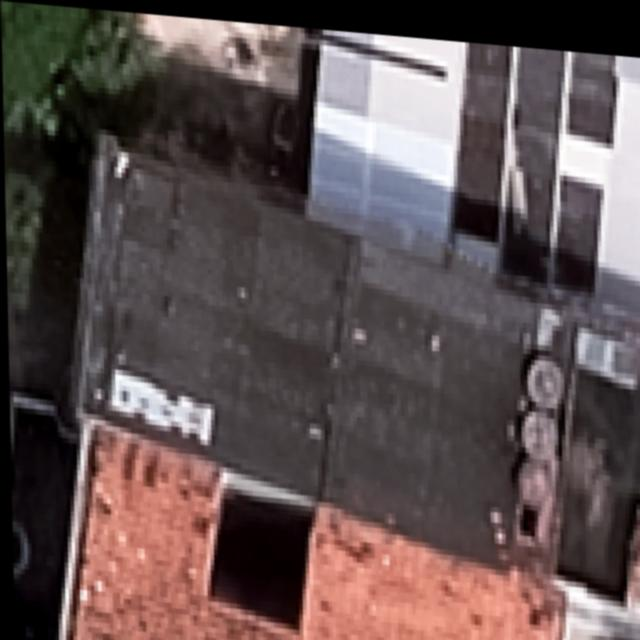Batiment: (71, 425, 558, 640)
